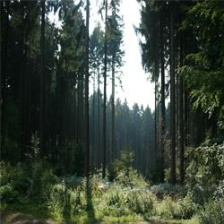neutral: (6, 2, 223, 224)
